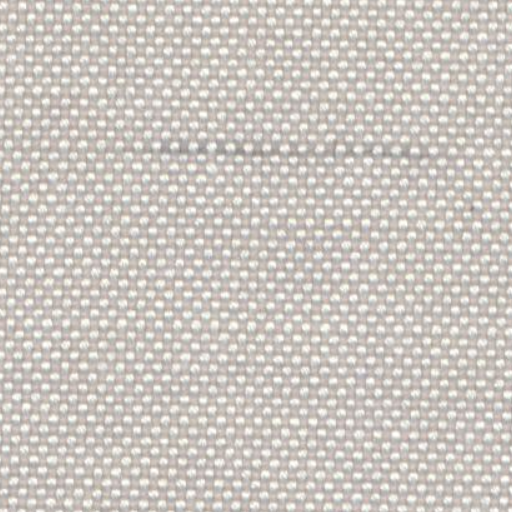WuZi: (152, 132, 436, 170)
